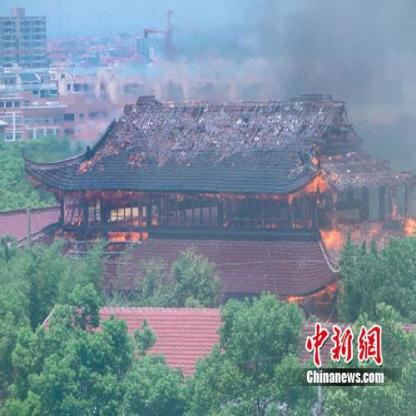fire: (285, 278, 337, 304), (385, 194, 412, 237), (100, 222, 152, 244), (301, 156, 330, 192), (319, 218, 351, 250), (78, 156, 90, 175)
other: (86, 303, 230, 370), (299, 315, 387, 368)
smoke: (302, 27, 401, 97)
